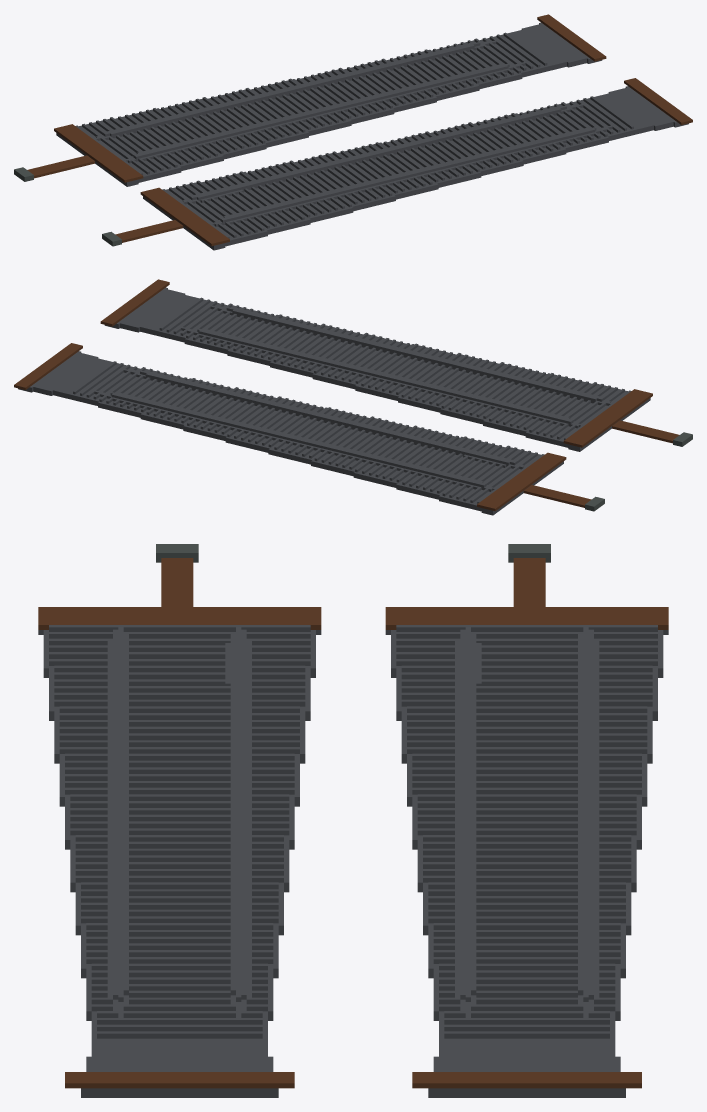
File: ch_chainmail_legs.glb
The picture shows the model from 3 angles, top to bottom: view 1: azimuth 30°, elevation 25°; view 2: azimuth 150°, elevation 25°; view 3: azimuth 270°, elevation 25°; orthographic projection. The views are drawn at different scales.
Parts seen in each view (by area): view 1: ch_chainmail_legs:compound; view 2: ch_chainmail_legs:compound; view 3: ch_chainmail_legs:compound.
Boxes of the visible parts, x1,y1,x2,y2 form: ch_chainmail_legs:compound: (14,14,692,250); ch_chainmail_legs:compound: (14,279,692,515); ch_chainmail_legs:compound: (38,544,668,1097).
Bounding box in the file's own units: 0.964 × 0.016 × 0.472.
